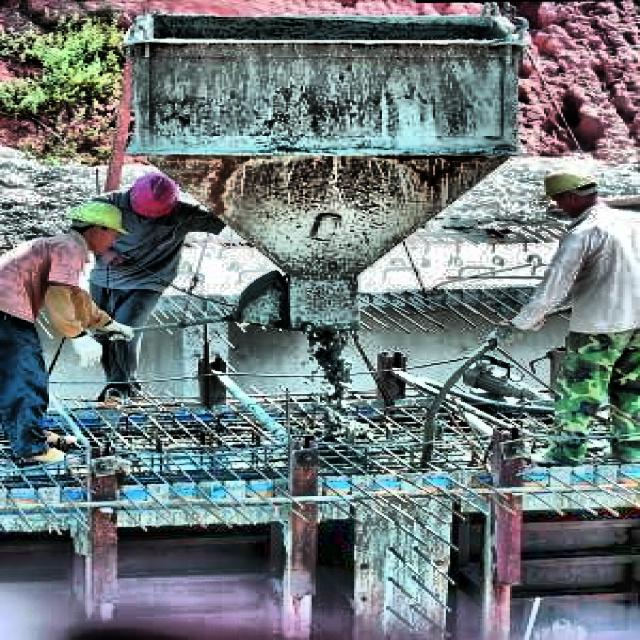helmet: (66, 198, 130, 253), (124, 170, 186, 226), (542, 159, 604, 210)
